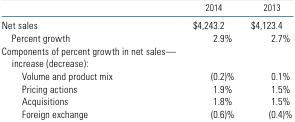table: (0, 1, 291, 119)
table column: (0, 1, 151, 119), (151, 1, 241, 119), (241, 1, 291, 119)
table column header: (0, 1, 291, 15)
table projected row header: (0, 43, 291, 69)
table row: (0, 43, 291, 69), (0, 15, 291, 31), (0, 1, 291, 15), (0, 81, 291, 94), (0, 106, 291, 119), (0, 31, 291, 43), (0, 69, 291, 81), (0, 94, 291, 106)
